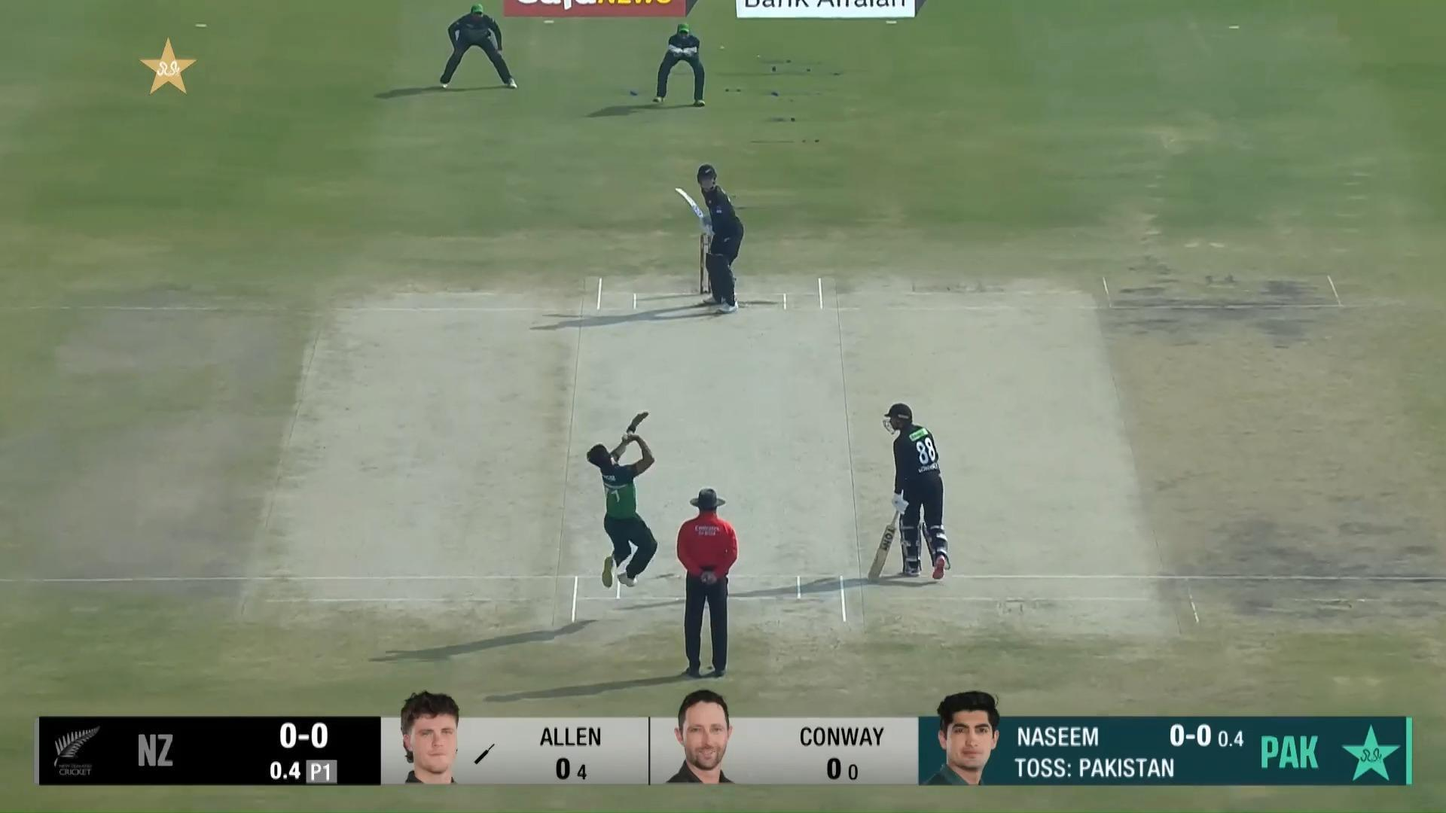BM 1: (675, 163, 744, 314)
BO: (583, 409, 659, 590)
